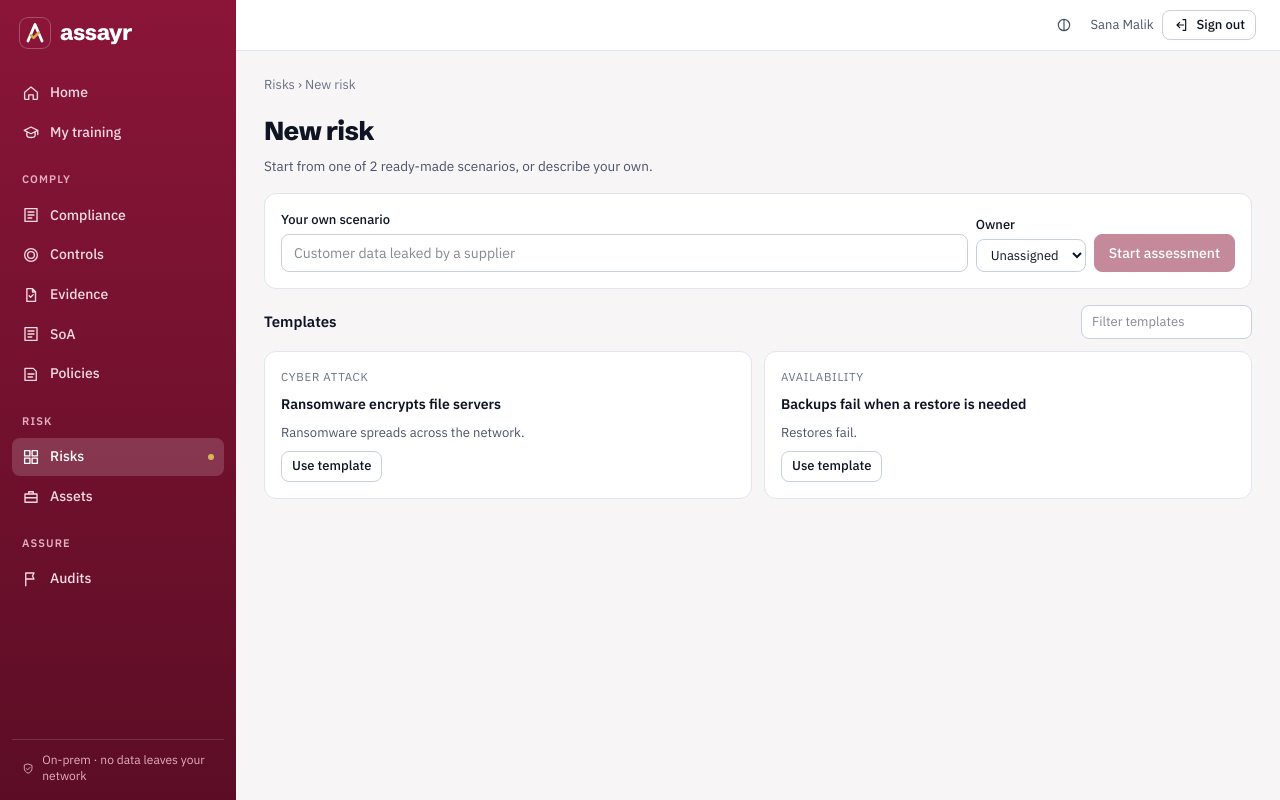
Test case: a template starts a new risk and opens the wizard
Click the button with aria-label "Use template: Ransomware encrypts file servers".
click(332, 466)  # box [281,451,382,482]
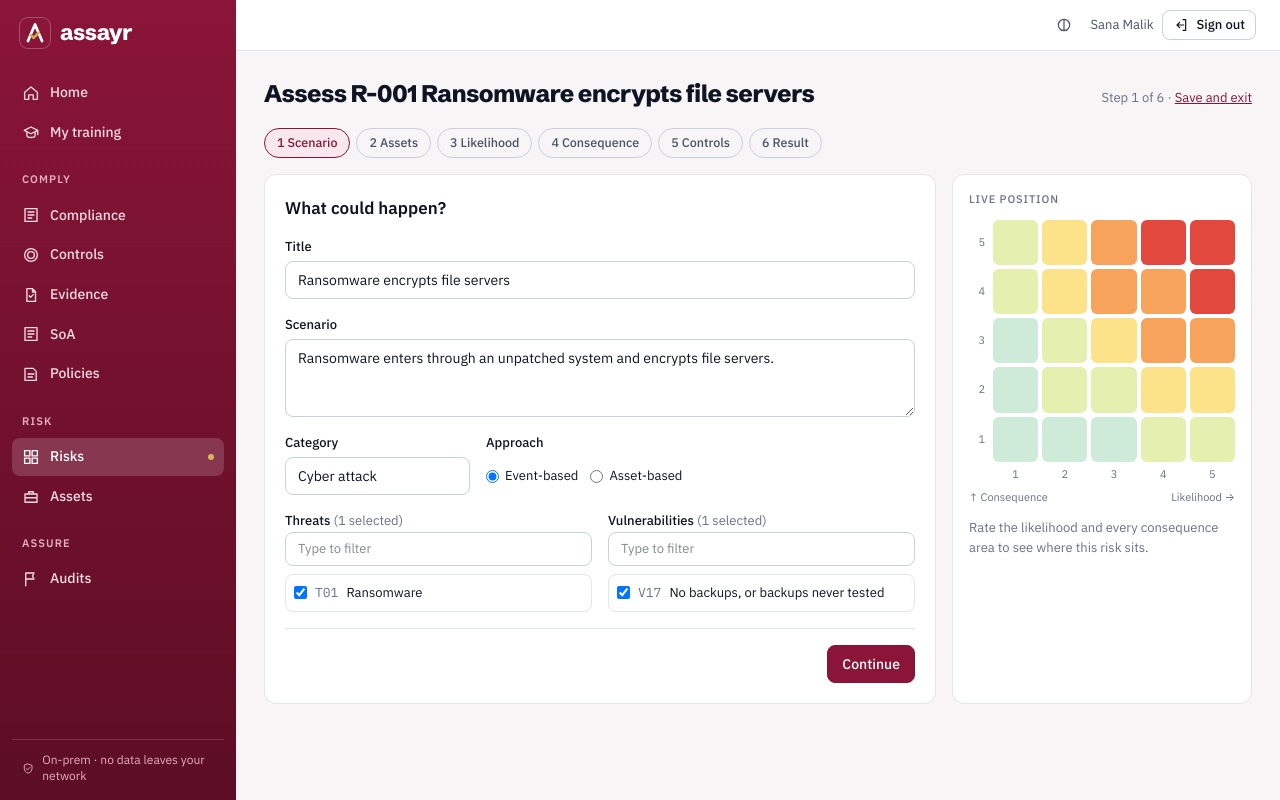
Now the heading "Assess R-001 Ransomware encrypts file servers" is shown, box [264,75,814,112]
